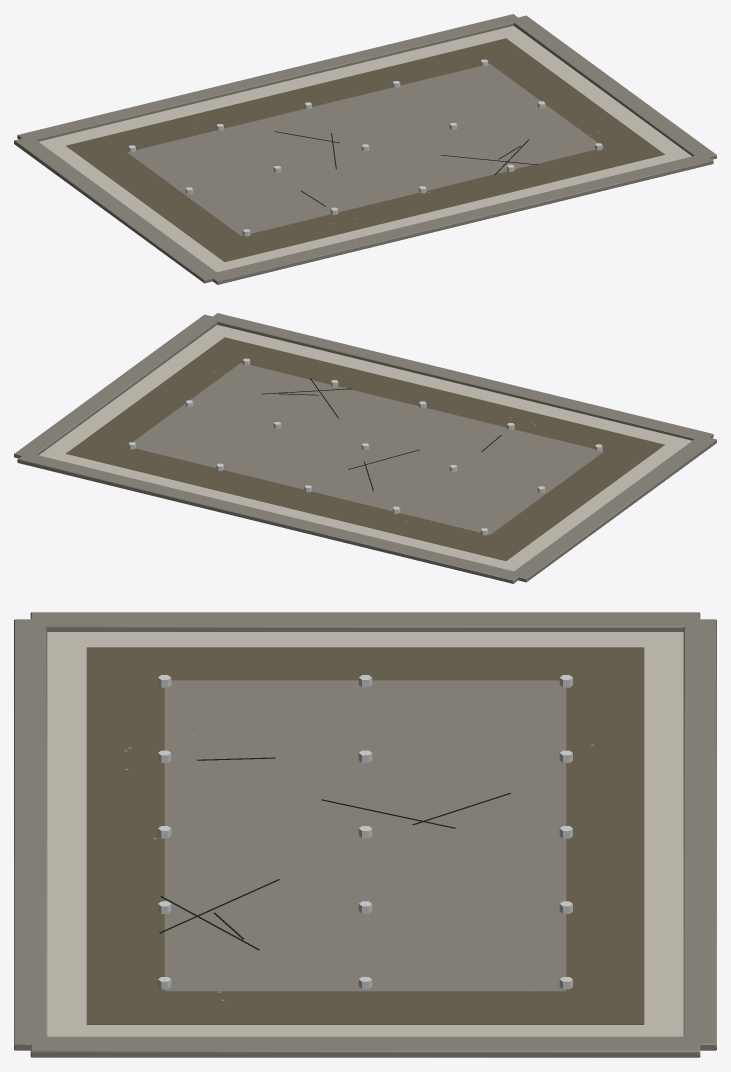
File: fountain_basin.glb
The picture shows the model from 3 angles, top to bottom: view 1: azimuth 30°, elevation 25°; view 2: azimuth 150°, elevation 25°; view 3: azimuth 270°, elevation 25°; orthographic projection. The views are drawn at different scales.
Visible parts, largest first — view 1: FountainBasin; view 2: FountainBasin; view 3: FountainBasin.
Part boxes in pixels (<box>): FountainBasin: <box>14,14,716,284</box>; FountainBasin: <box>14,313,716,583</box>; FountainBasin: <box>14,612,716,1057</box>.
Size of the model in its own units: 9.32 by 0.1 by 6.3.
